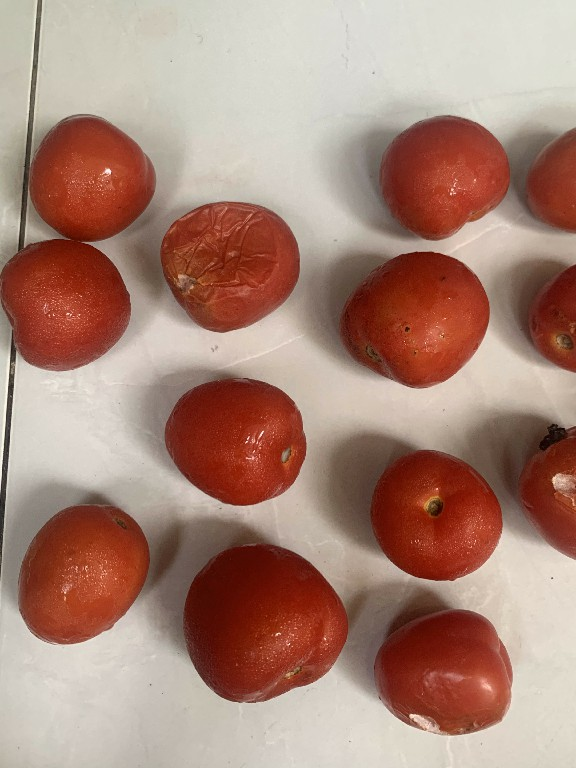NG: (319, 244, 497, 398), (363, 600, 533, 746), (149, 183, 304, 342)
OK: (172, 536, 353, 711), (4, 492, 157, 653), (364, 440, 515, 592), (154, 372, 312, 513), (0, 230, 143, 379), (19, 96, 158, 244), (371, 106, 518, 242)
